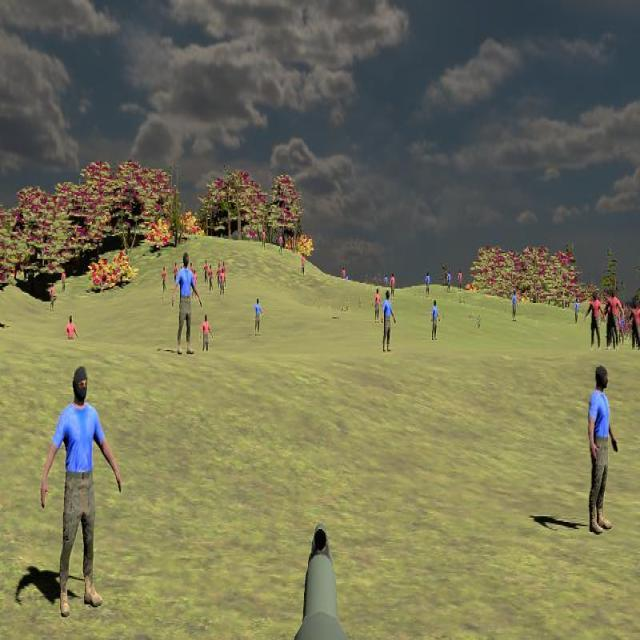Human: (40, 366, 123, 614), (589, 365, 619, 535), (171, 252, 202, 354), (603, 289, 623, 350), (585, 291, 605, 349), (381, 289, 396, 353), (628, 301, 640, 351)
